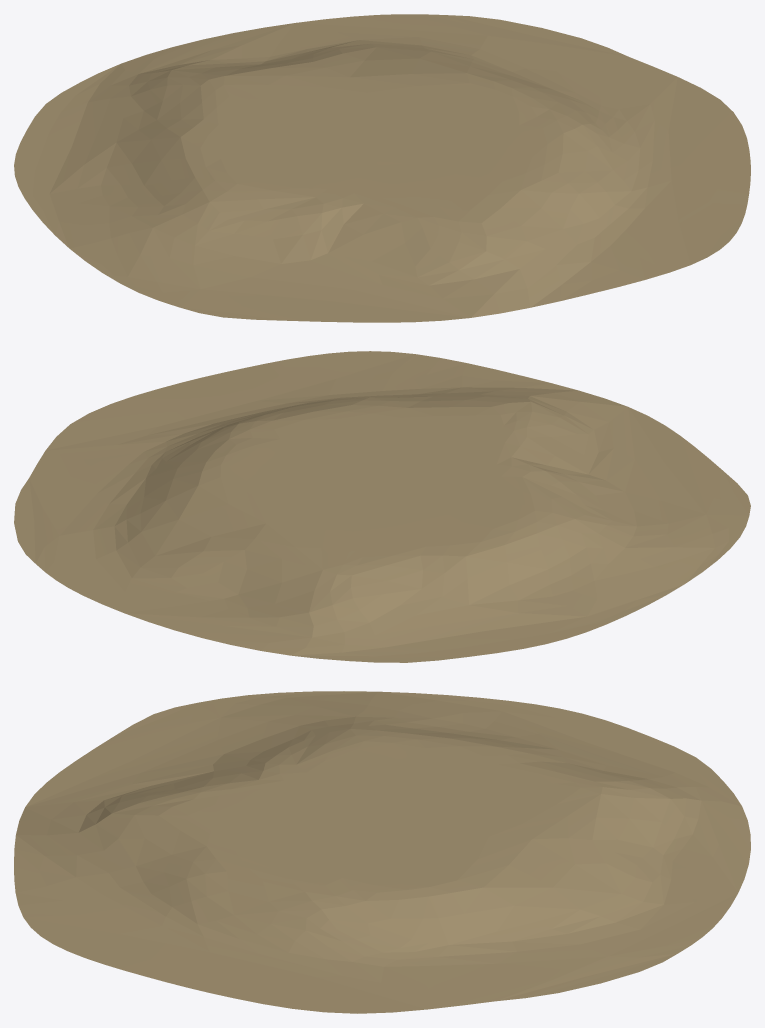
Rendered from SM_Env_Beach_06.glb.
3 views of the same model, one above another, from view 1: azimuth 30°, elevation 25°; view 2: azimuth 150°, elevation 25°; view 3: azimuth 270°, elevation 25° (orthographic). The views are drawn at different scales.
Parts seen in each view (by area): view 1: SM_Env_Beach_06; view 2: SM_Env_Beach_06; view 3: SM_Env_Beach_06.
Boxes of the visible parts, x1,y1,x2,y2 form: SM_Env_Beach_06: (14,14,750,322); SM_Env_Beach_06: (14,351,750,662); SM_Env_Beach_06: (14,691,750,1013).
Size of the model in its own units: 0.2699 by 0.0123 by 0.2606.
